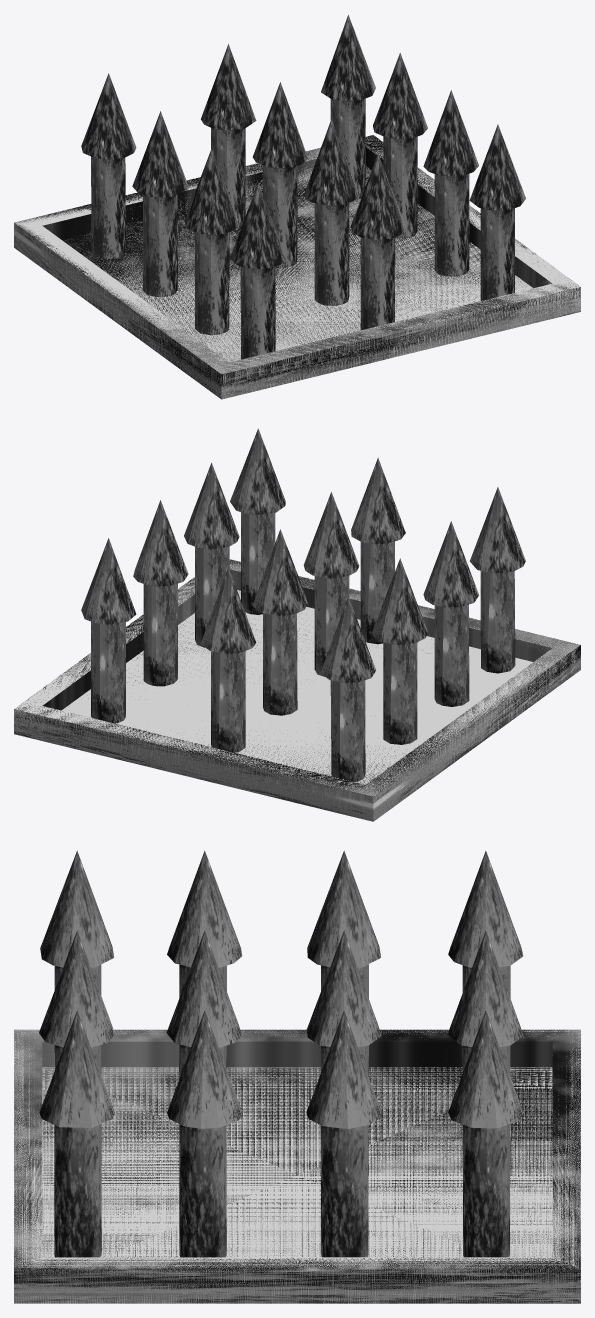
The model's file is pinchos.glb.
The picture shows the model from 3 angles, top to bottom: view 1: azimuth 30°, elevation 25°; view 2: azimuth 150°, elevation 25°; view 3: azimuth 270°, elevation 25°; orthographic projection. The views are drawn at different scales.
Parts seen in each view (by area): view 1: Cylinder, Cube; view 2: Cylinder, Cube; view 3: Cylinder, Cube.
Part boxes in pixels (x1,y1,x2,y2): Cylinder: (14,15,580,399); Cube: (14,135,580,399); Cylinder: (14,428,580,821); Cube: (14,560,580,817); Cylinder: (14,850,580,1303); Cube: (14,1029,580,1303).
Size of the model in its own units: 6 by 2.96 by 6.
Materials: 2 (1 with a texture image).
